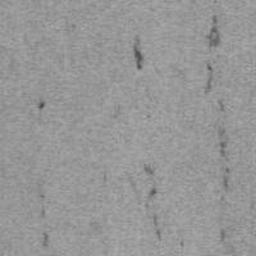Inclusion: (204, 14, 225, 113), (216, 127, 232, 188), (142, 163, 157, 200), (133, 35, 145, 70), (152, 215, 163, 243), (38, 193, 46, 220), (41, 232, 50, 247), (219, 229, 227, 242), (37, 100, 46, 110)
